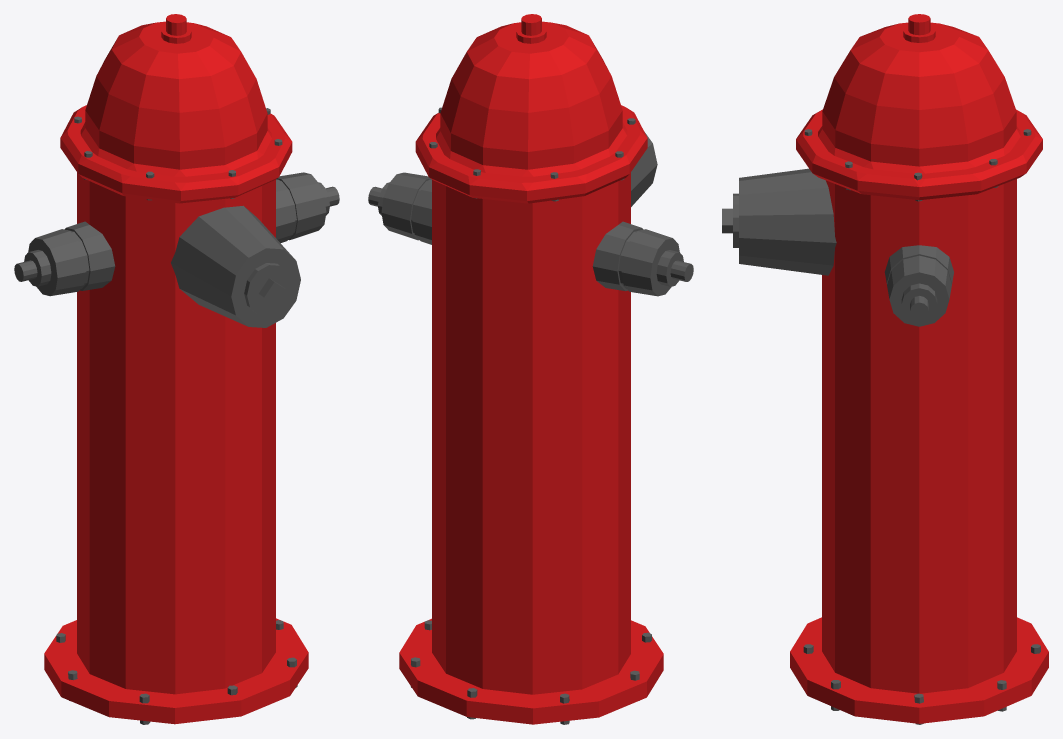
Rendered from LP_cityasset_firehydrantv2.glb.
The picture shows the model from 3 angles, left to right: view 1: azimuth 30°, elevation 25°; view 2: azimuth 150°, elevation 25°; view 3: azimuth 270°, elevation 25°; orthographic projection.
Visible parts, largest first — view 1: base; view 2: base; view 3: base.
Boxes of the visible parts, x1,y1,x2,y2 form: base: [14, 14, 339, 724]; base: [368, 14, 693, 724]; base: [733, 14, 1048, 723].
Size of the model in its own units: 3.76 by 7.45 by 3.37.
